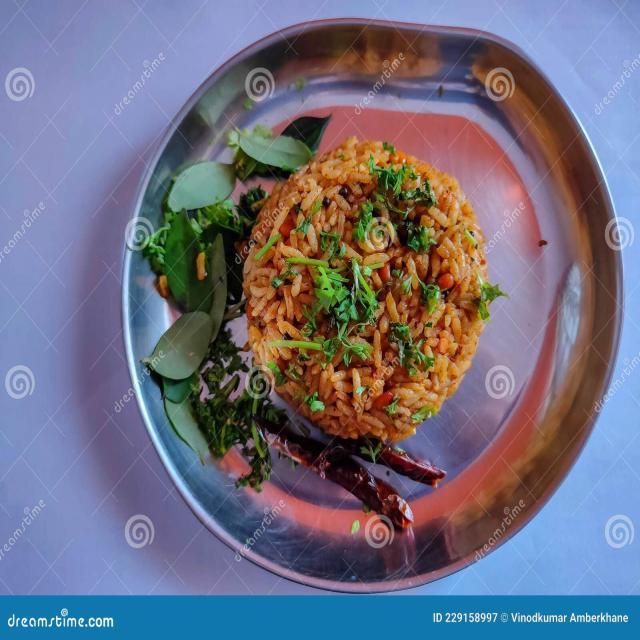puliyogare: (242, 131, 495, 452)
